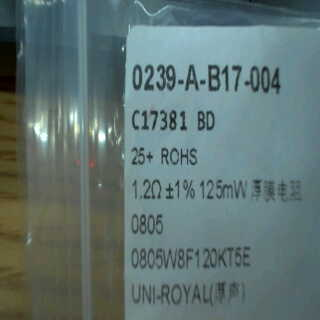1.2R: (129, 178, 165, 238)
